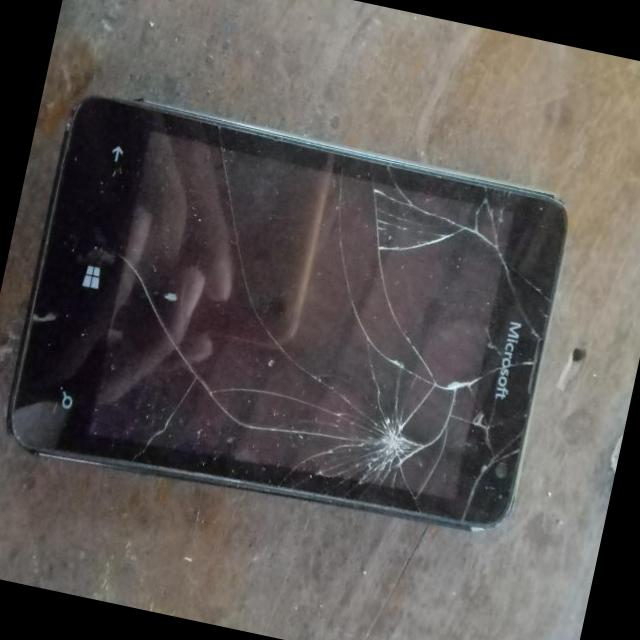screen crack: (81, 116, 576, 540), (8, 285, 74, 347)
